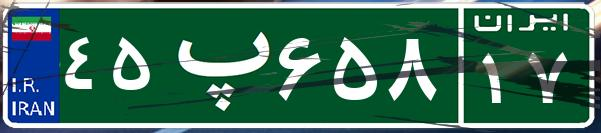1: (475, 38, 525, 113)
4: (57, 26, 110, 107)
5: (330, 28, 385, 110), (110, 28, 158, 105)
6: (273, 28, 330, 110)
7: (525, 38, 570, 115)
8: (385, 28, 445, 110)
پ: (158, 15, 273, 115)
